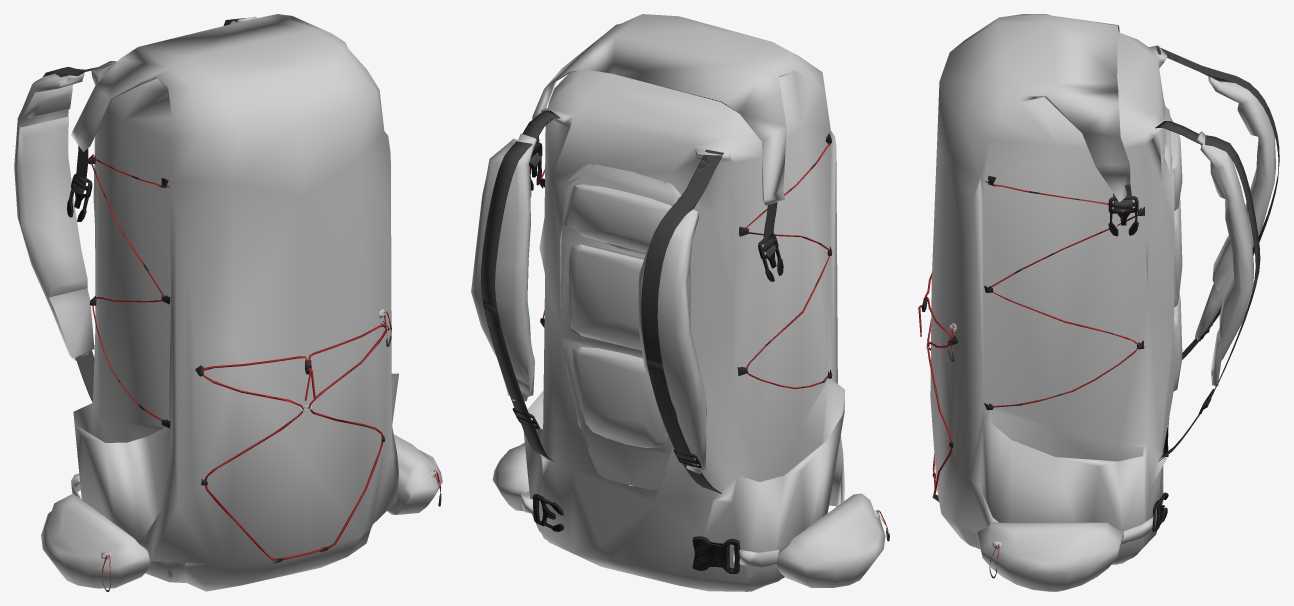
The picture shows the model from 3 angles, left to right: view 1: azimuth 30°, elevation 25°; view 2: azimuth 150°, elevation 25°; view 3: azimuth 270°, elevation 25°; orthographic projection. The views are drawn at different scales.
Visible parts, largest first — view 1: Bag_LOD0, Straps_LOD0; view 2: Bag_LOD0, Straps_LOD0; view 3: Bag_LOD0, Straps_LOD0.
Boxes of the visible parts, bbox=[...] form: Bag_LOD0: bbox=[14, 14, 442, 591]; Straps_LOD0: bbox=[43, 18, 441, 591]; Bag_LOD0: bbox=[471, 14, 885, 591]; Straps_LOD0: bbox=[480, 110, 889, 573]; Bag_LOD0: bbox=[930, 14, 1275, 591]; Straps_LOD0: bbox=[918, 46, 1279, 578].
Size of the model in its own units: 93.35 by 121 by 81.49.
